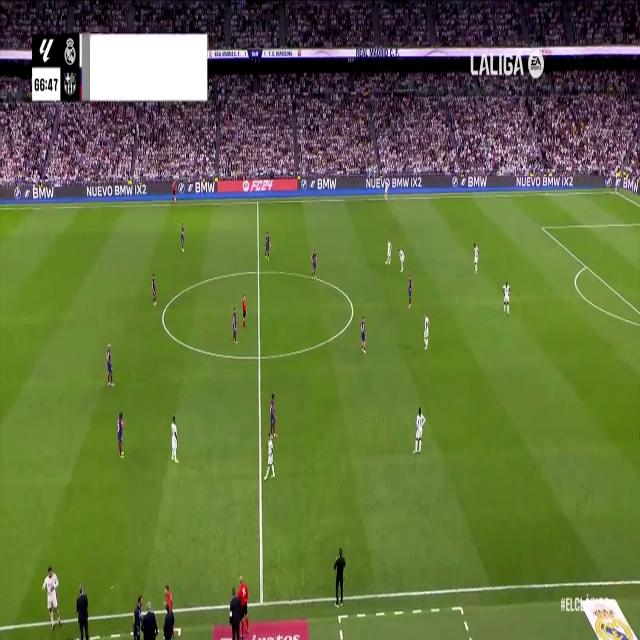bigarea_top_inner: (539, 221, 545, 233)
corner: (612, 187, 619, 196)
halfcircle_bottom: (254, 344, 265, 370)
halfcircle_top: (254, 262, 263, 281)
midline_bottom_intersection: (255, 588, 268, 614)
midline_top_intersection: (255, 195, 261, 209)
top_arc_area_intersection: (583, 259, 589, 272)
